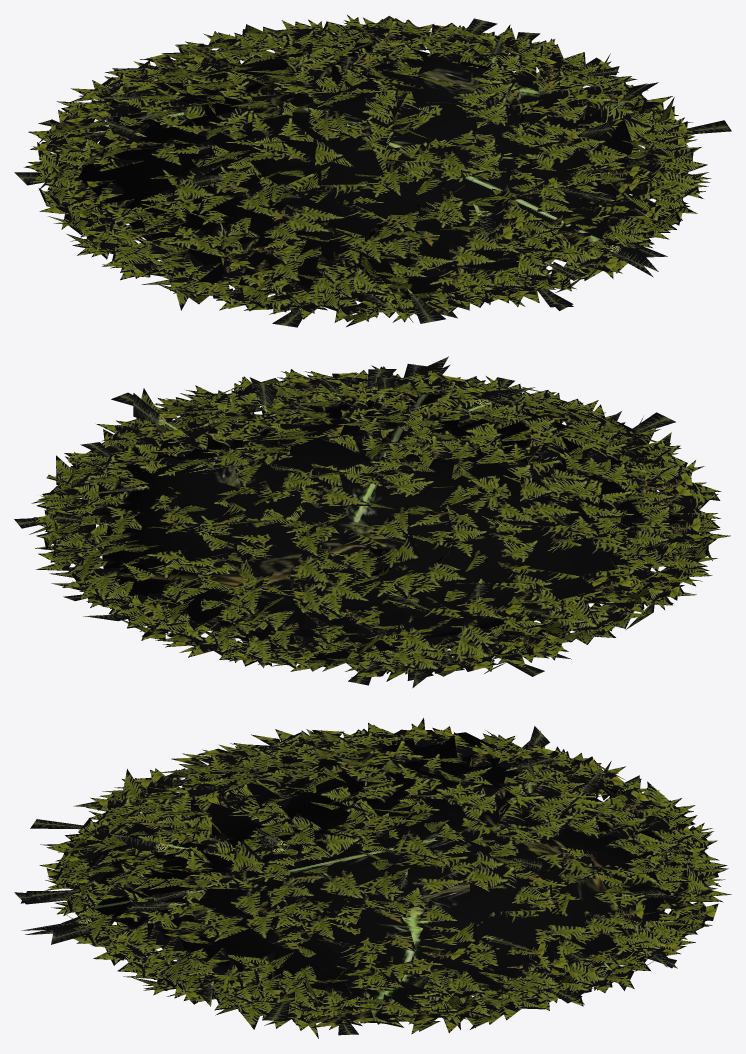
File: moss_clump.glb
The picture shows the model from 3 angles, top to bottom: view 1: azimuth 30°, elevation 25°; view 2: azimuth 150°, elevation 25°; view 3: azimuth 270°, elevation 25°; orthographic projection. The views are drawn at different scales.
Parts seen in each view (by area): view 1: moss_01_geometry_nodes_w; view 2: moss_01_geometry_nodes_w; view 3: moss_01_geometry_nodes_w.
Boxes of the visible parts, x1=… form: moss_01_geometry_nodes_w: x1=14, y1=15, x2=731, y2=327; moss_01_geometry_nodes_w: x1=14, y1=356, x2=730, y2=688; moss_01_geometry_nodes_w: x1=14, y1=718, x2=731, y2=1038.
Size of the model in its own units: 0.9924 by 0.1763 by 1.
Materials: 1 (1 with a texture image).
